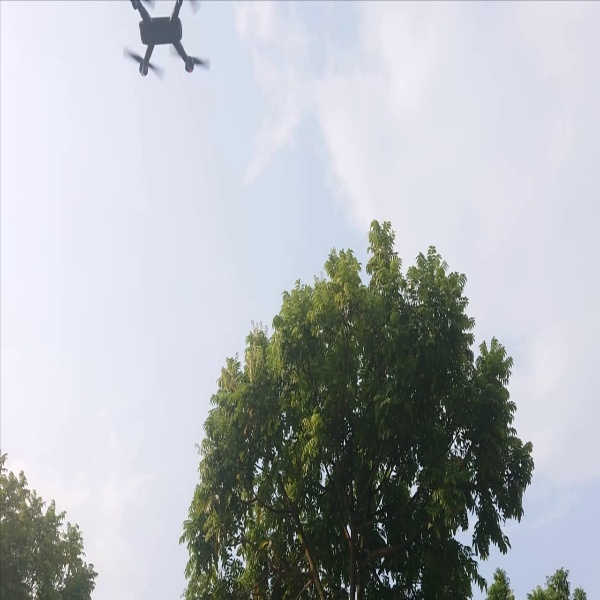drone: (114, 1, 215, 90)
